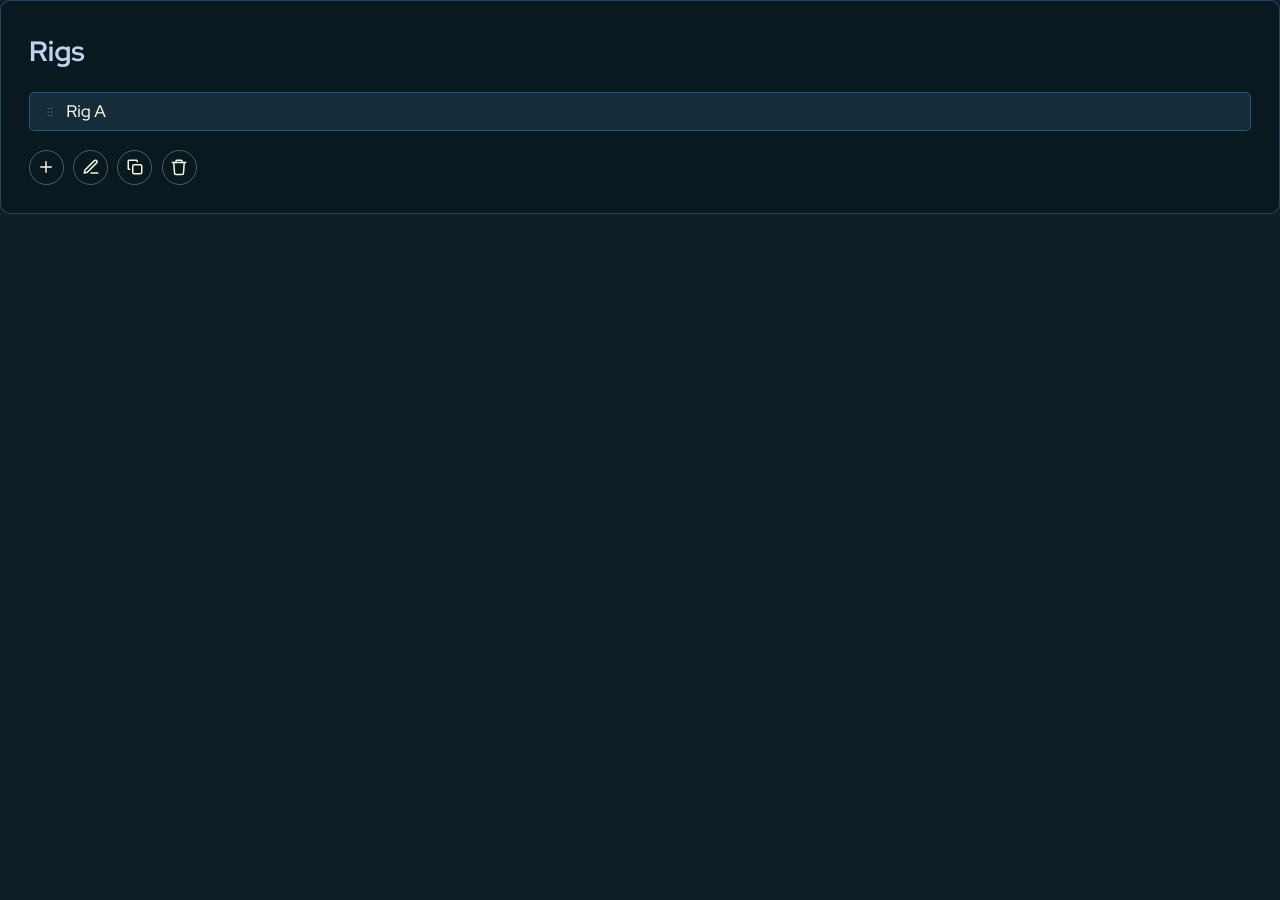
it: deleting › deletes on confirmation, leaving none selected
Expected: the number of options is 1, [29,92,1251,131]
Click the button named "delete rig" at (179, 167), box [162,150,197,185]
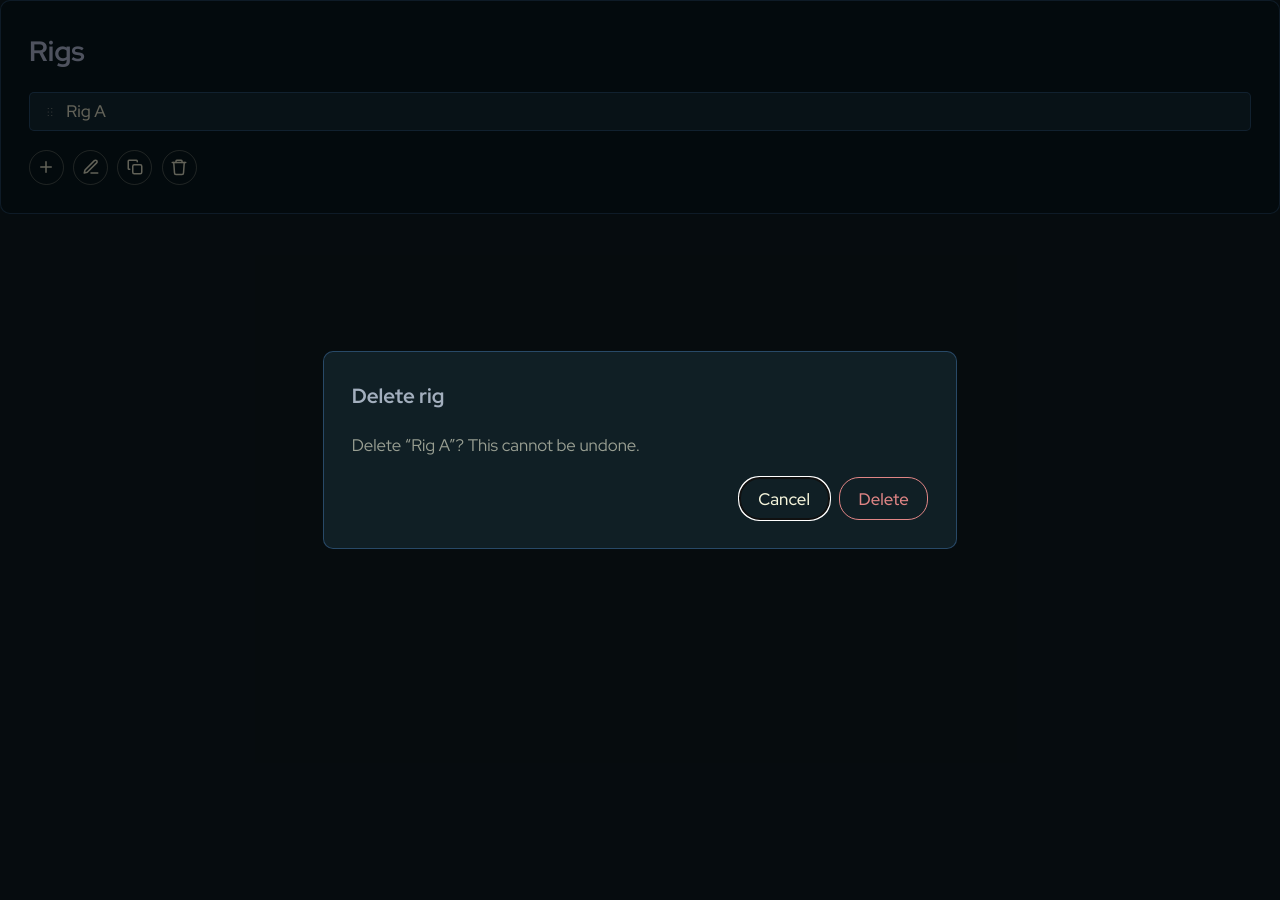
Click the button "Delete" at (884, 499), box [839,477,928,520]
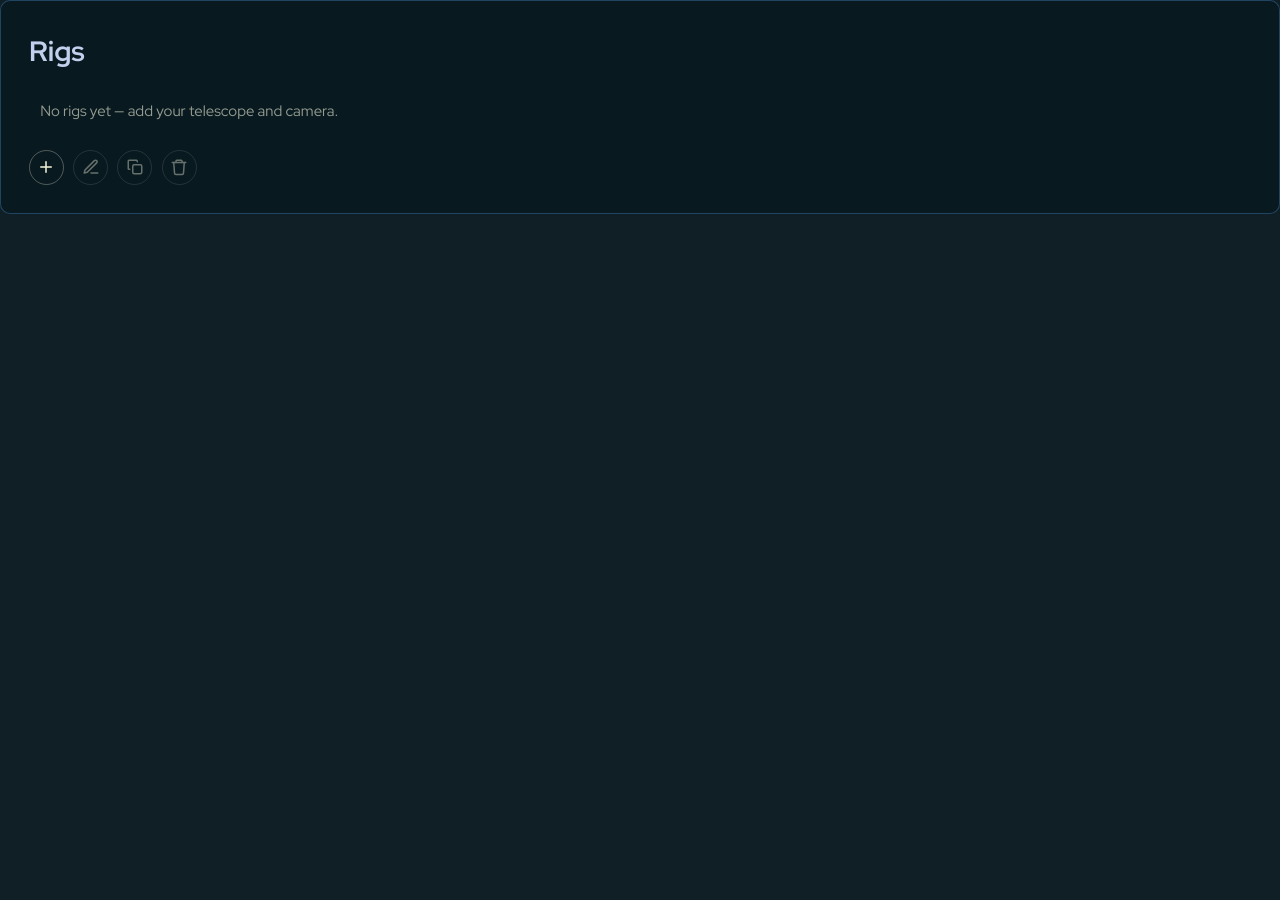
Result: the dialog is gone
